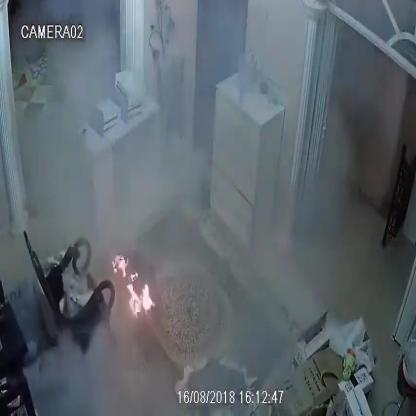fire: (126, 272, 153, 314), (112, 253, 128, 278)
